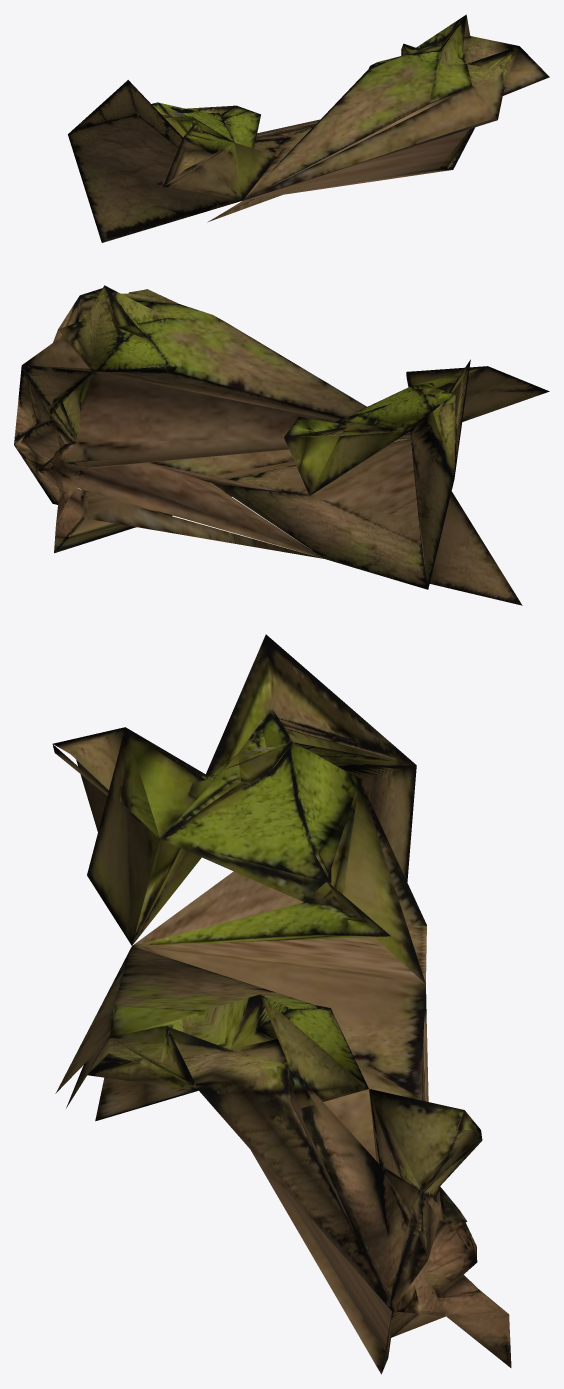
The model's file is log.glb.
3 views of the same model, one above another, from view 1: azimuth 30°, elevation 25°; view 2: azimuth 150°, elevation 25°; view 3: azimuth 270°, elevation 25° (orthographic). The views are drawn at different scales.
Parts seen in each view (by area): view 1: tripo_node_38a4caea-8cbe-46e9-95c5-f5f5c09878bc; view 2: tripo_node_38a4caea-8cbe-46e9-95c5-f5f5c09878bc; view 3: tripo_node_38a4caea-8cbe-46e9-95c5-f5f5c09878bc.
Boxes of the visible parts, left/top/right/bottom form: tripo_node_38a4caea-8cbe-46e9-95c5-f5f5c09878bc: left=68, top=14, right=549, bottom=242; tripo_node_38a4caea-8cbe-46e9-95c5-f5f5c09878bc: left=14, top=285, right=549, bottom=605; tripo_node_38a4caea-8cbe-46e9-95c5-f5f5c09878bc: left=52, top=634, right=511, bottom=1374.
Bounding box in the file's own units: 0.9429 × 0.4068 × 0.401.
Materials: 1 (1 with a texture image).
